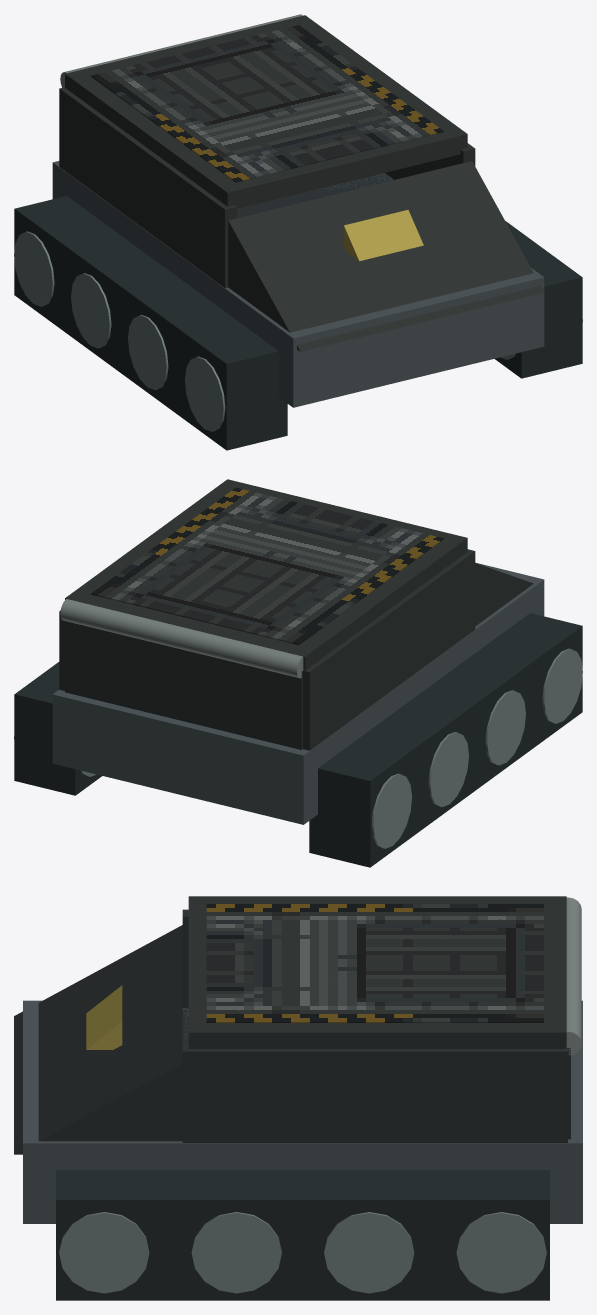
The model's file is CMU3DReduxCMUCargoCarrier.glb.
3 renders of one model, top to bottom at view 1: azimuth 30°, elevation 25°; view 2: azimuth 150°, elevation 25°; view 3: azimuth 270°, elevation 25°, orthographic. The views are drawn at different scales.
Visible parts, largest first — view 1: remote drive unit, track belt (×2), source cargo lid, carrier chassis, cargo lid, bay side wall (×2), drive wheel (×4), control indicator, cargo bay floor, lid hinge; view 2: track belt (×2), source cargo lid, carrier chassis, rear bay door, bay side wall, cargo lid, drive wheel (×4), lid hinge, remote drive unit; view 3: track belt, source cargo lid, bay side wall (×2), remote drive unit, drive wheel (×4), carrier chassis, cargo lid, lid hinge, control indicator.
Part boxes in pixels (left/top/right/bottom): remote drive unit: left=228, top=161, right=544, bottom=351; track belt (×2): left=14, top=196, right=582, bottom=450; source cargo lid: left=91, top=25, right=443, bottom=182; carrier chassis: left=52, top=161, right=544, bottom=407; cargo lid: left=65, top=15, right=467, bottom=208; bay side wall (×2): left=59, top=87, right=475, bottom=288; drive wheel (×4): left=14, top=231, right=225, bottom=431; control indicator: left=344, top=210, right=423, bottom=261; cargo bay floor: left=237, top=173, right=393, bottom=218; lid hinge: left=60, top=14, right=302, bottom=87; track belt (×2): left=14, top=613, right=582, bottom=867; source cargo lid: left=91, top=487, right=443, bottom=644; carrier chassis: left=52, top=562, right=544, bottom=824; rear bay door: left=65, top=621, right=302, bottom=749; bay side wall: left=303, top=549, right=475, bottom=750; cargo lid: left=65, top=479, right=467, bottom=670; drive wheel (×4): left=371, top=648, right=582, bottom=848; lid hinge: left=60, top=599, right=303, bottom=678; remote drive unit: left=475, top=563, right=533, bottom=625; track belt: left=56, top=1170, right=549, bottom=1300; source cargo lid: left=206, top=904, right=543, bottom=1022; bay side wall (×2): left=182, top=909, right=567, bottom=1142; remote drive unit: left=14, top=925, right=182, bottom=1154; drive wheel (×4): left=59, top=1212, right=546, bottom=1293; carrier chassis: left=23, top=1000, right=582, bottom=1223; cargo lid: left=188, top=896, right=566, bottom=1048; lid hinge: left=566, top=897, right=581, bottom=1055; control indicator: left=86, top=985, right=122, bottom=1049.
Size of the model in its own units: 1.63 by 0.881 by 1.92.
8 materials, 1 textured.
